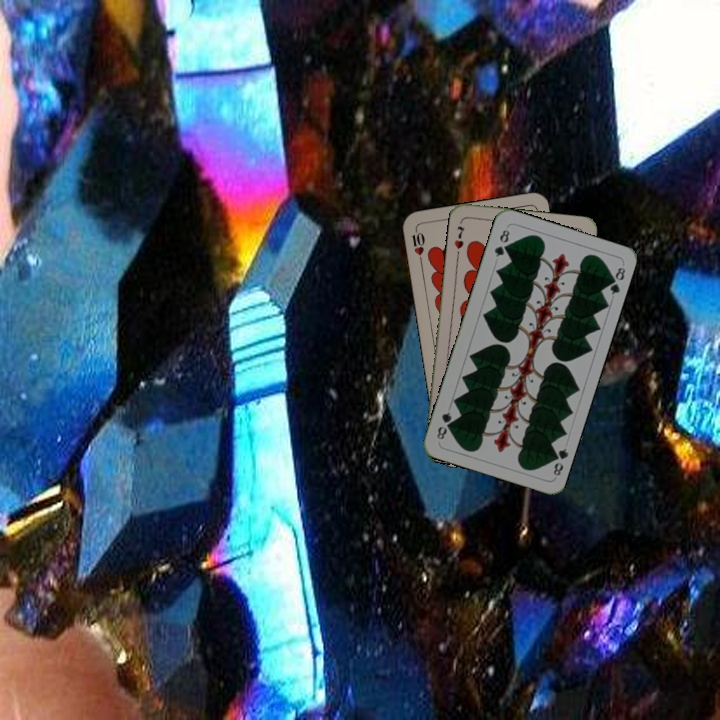G8: (490, 223, 512, 259), (547, 444, 570, 478)
H10: (408, 225, 427, 265)
H7: (450, 222, 467, 252)
